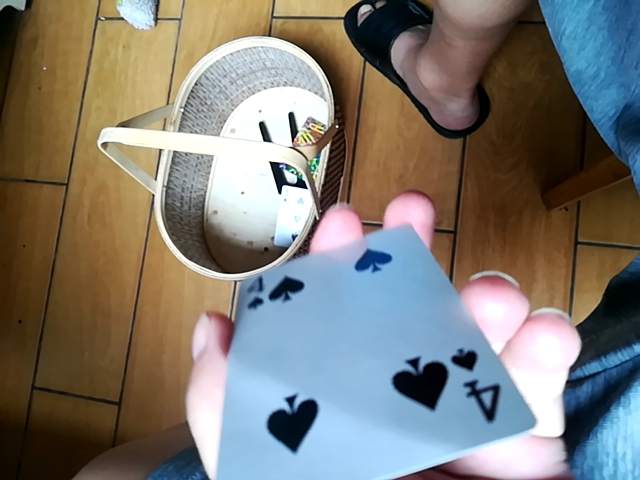ht 4: (186, 192, 570, 479)
